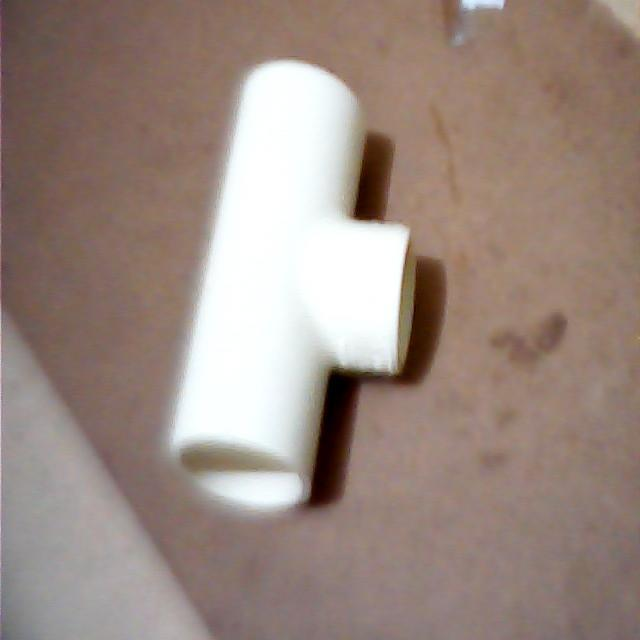T Joint: (174, 61, 417, 512)
